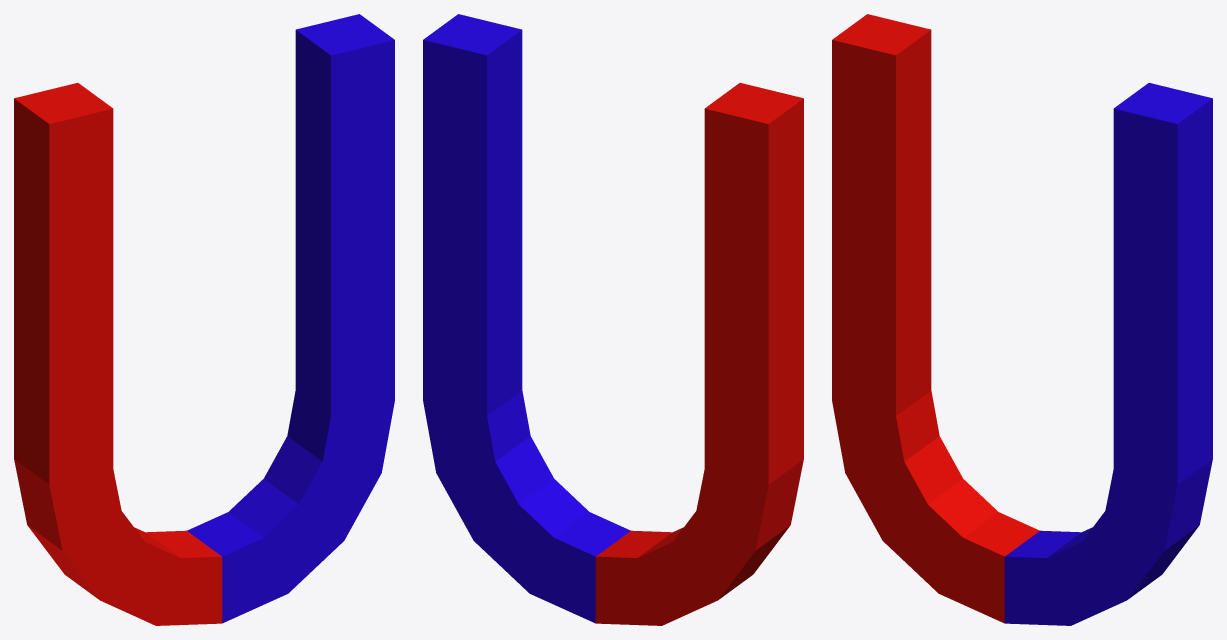
Rendered from Magnet.fbx.
3 renders of one model, left to right at view 1: azimuth 30°, elevation 25°; view 2: azimuth 150°, elevation 25°; view 3: azimuth 330°, elevation 25°, orthographic.
Parts seen in each view (by area): view 1: Cylinder; view 2: Cylinder; view 3: Cylinder.
Part boxes in pixels (left/top/right/bottom): Cylinder: left=14, top=14, right=394, bottom=625; Cylinder: left=423, top=14, right=803, bottom=625; Cylinder: left=832, top=14, right=1212, bottom=625.
Bounding box in the file's own units: 200 × 300 × 35.43.
